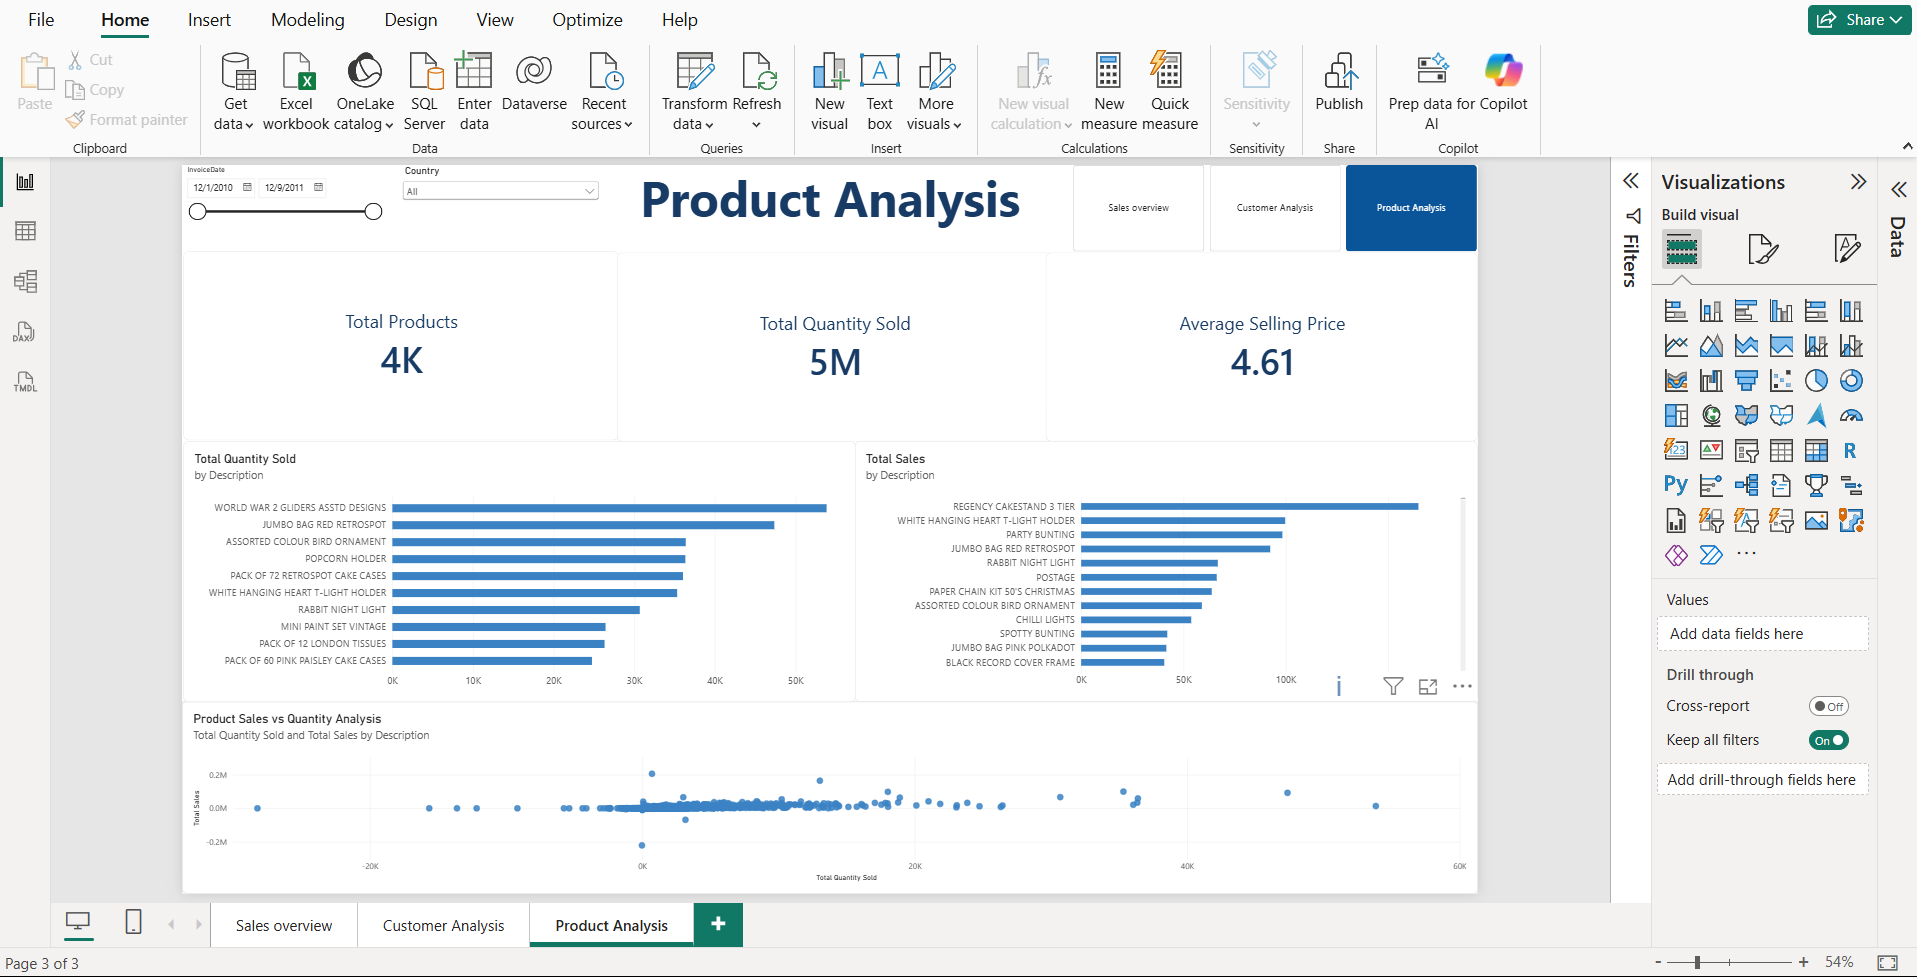

Layout of this report page (visuals, bound fields, positions):
{"tool":"powerbi","page":{"name":"Product Analysis","canvas":[1920,1080],"ordinal":2},"visuals":[{"type":"cardVisual","fields":{"Data":["Online Retail.Total Products"]},"box":[1.4,128.6,645,280],"z":0},{"type":"cardVisual","fields":{"Data":["Online Retail.Total Quantity Sold"]},"box":[645,130,645,280],"z":1000},{"type":"cardVisual","fields":{"Data":["Online Retail.Average Selling Price"]},"box":[1280,130,640,280],"z":2000},{"type":"clusteredBarChart","fields":{"Category":["Online Retail.Description"],"Y":["Online Retail.Total Sales"]},"box":[997.1,410,922.9,385.7],"z":3000},{"type":"scatterChart","title":"Product Sales vs Quantity Analysis","fields":{"Category":["Online Retail.Description"],"X":["Online Retail.Total Quantity Sold"],"Y":["Online Retail.Total Sales"]},"box":[0,794.4,1920,285],"z":4000},{"type":"clusteredBarChart","fields":{"Category":["Online Retail.Description"],"Y":["Online Retail.Total Quantity Sold"]},"box":[2,409.8,996.1,386.3],"z":5000},{"type":"textbox","box":[0,0,1920,155],"z":6000},{"type":"slicer","fields":{"Values":["Online Retail.InvoiceDate"]},"box":[0,0,300,85.6],"z":7000},{"type":"slicer","fields":{"Values":["Online Retail.Country"]},"box":[322.5,0,300,95.6],"z":8000},{"type":"pageNavigator","box":[1320,0,600,128.9],"z":9000}]}

Visuals, with their boxes on the page's 1920x1080 design canvas (x1, y1, x2, y2). These are canvas units, not pixel positions in the 1917x977 screenshot, which may show the page scaled, cropped or inside an application window:
cardVisual - Online Retail.Total Products: region(1, 129, 646, 409)
cardVisual - Online Retail.Total Quantity Sold: region(645, 130, 1290, 410)
cardVisual - Online Retail.Average Selling Price: region(1280, 130, 1920, 410)
clusteredBarChart - Online Retail.Description x Online Retail.Total Sales: region(997, 410, 1920, 796)
"Product Sales vs Quantity Analysis" scatterChart: region(0, 794, 1920, 1079)
clusteredBarChart - Online Retail.Description x Online Retail.Total Quantity Sold: region(2, 410, 998, 796)
textbox: region(0, 0, 1920, 155)
slicer - Online Retail.InvoiceDate: region(0, 0, 300, 86)
slicer - Online Retail.Country: region(322, 0, 622, 96)
pageNavigator: region(1320, 0, 1920, 129)
